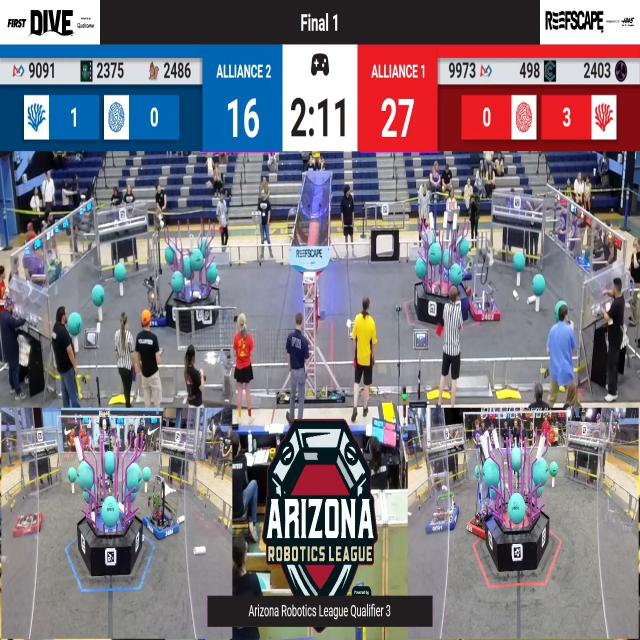scoreboard: (0, 44, 640, 150)
